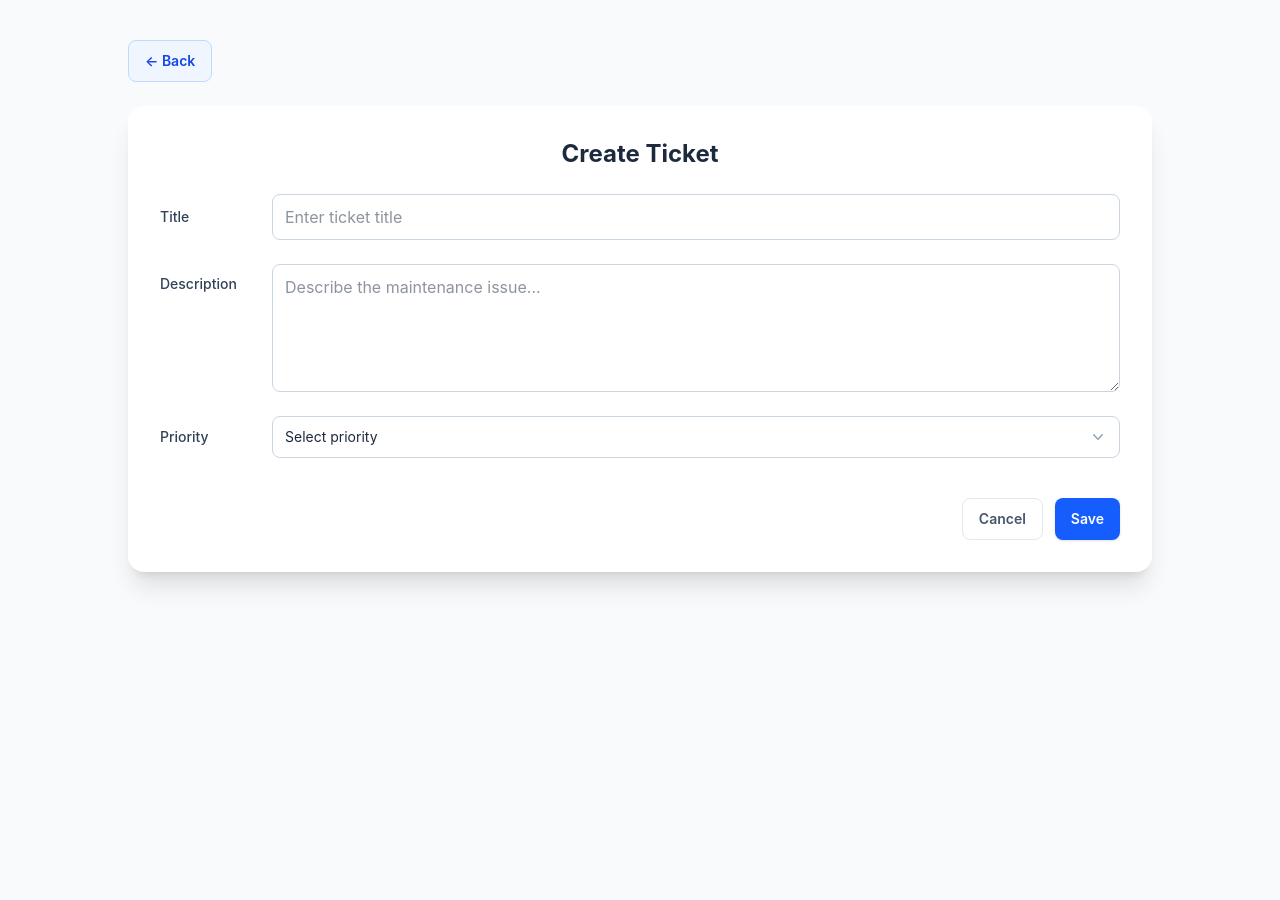
it: CreateTicket page › cancels the confirmation without submitting or clearing entered values
The image size is (1280, 900).
In the field labelled "Title": (696, 217) [272,194,1120,240], type "Repair leaking pipe"
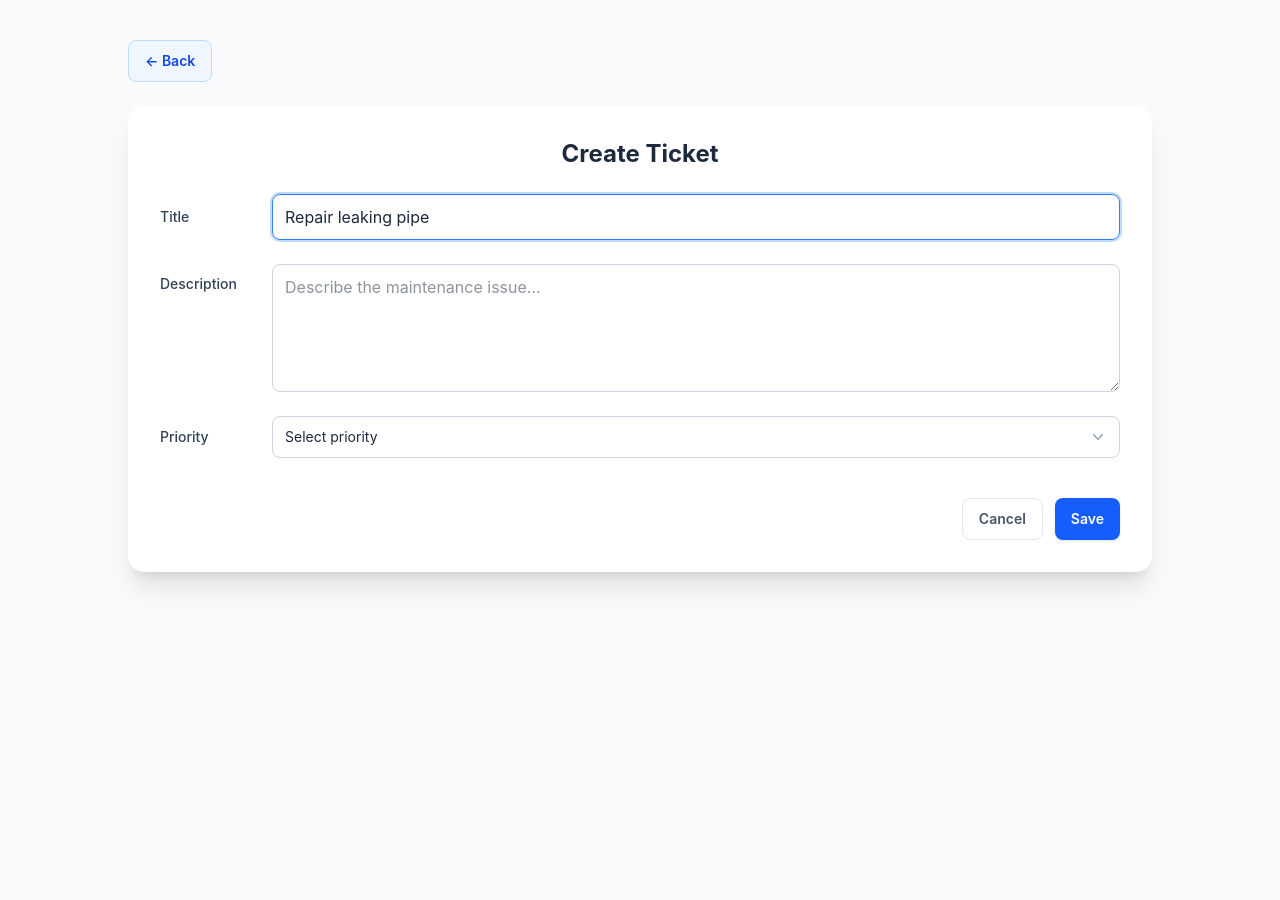
In the text box labelled "Description": (696, 328) [272,264,1120,392], type "Pipe leak in kitchen"
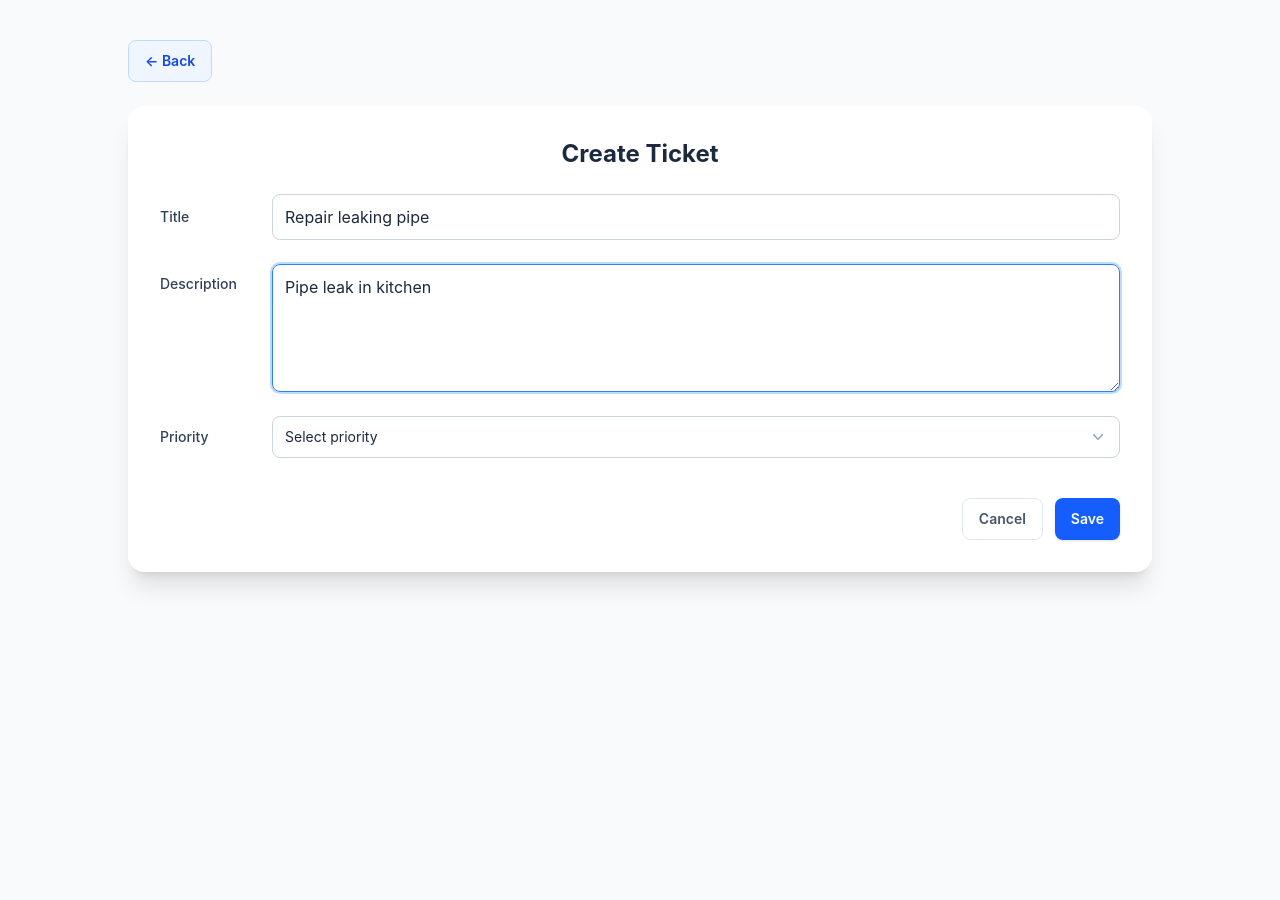
Select "High" in the dropdown labelled "Priority": (696, 437) [272,416,1120,458]
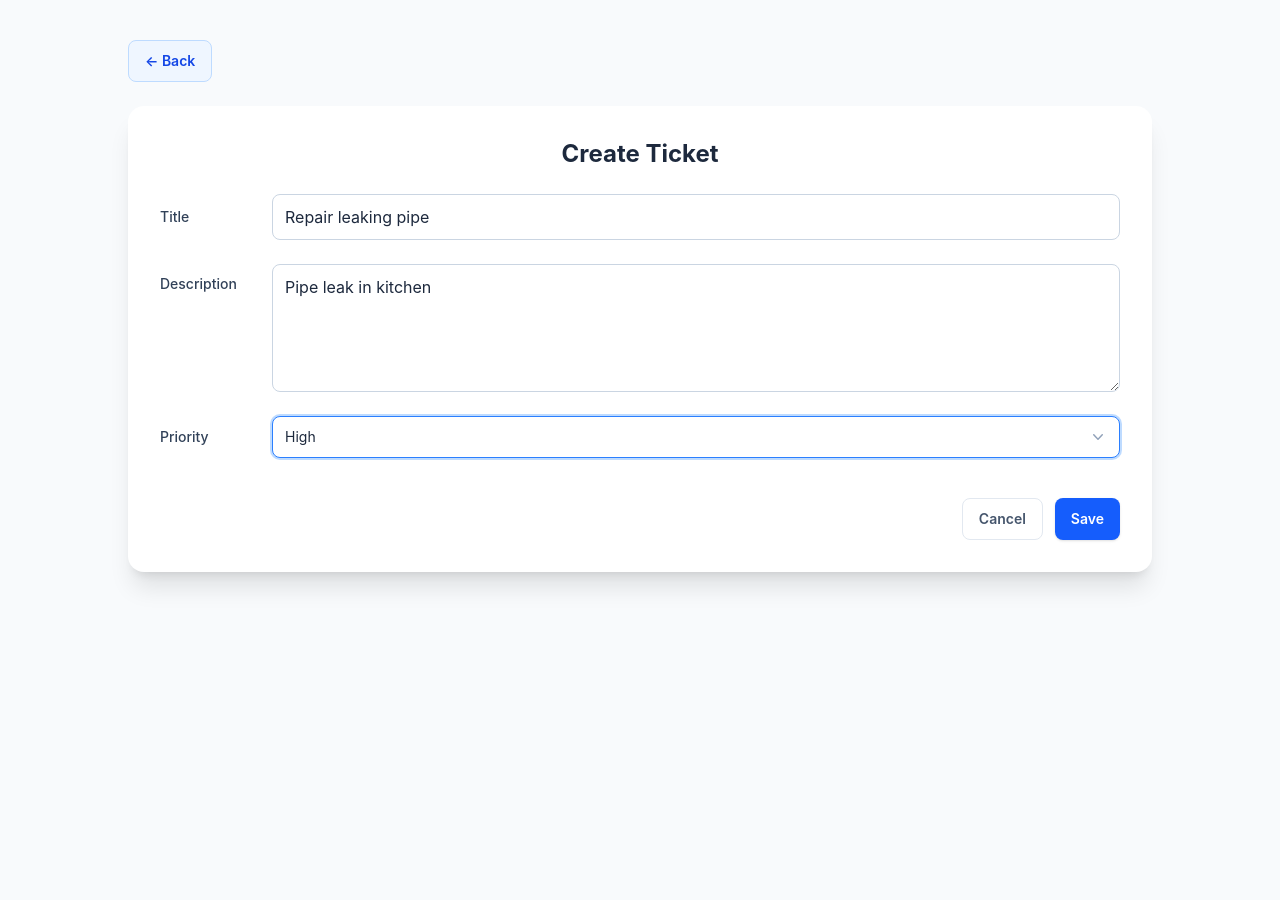
Click the button "Save": (1087, 519) [1055,498,1120,540]
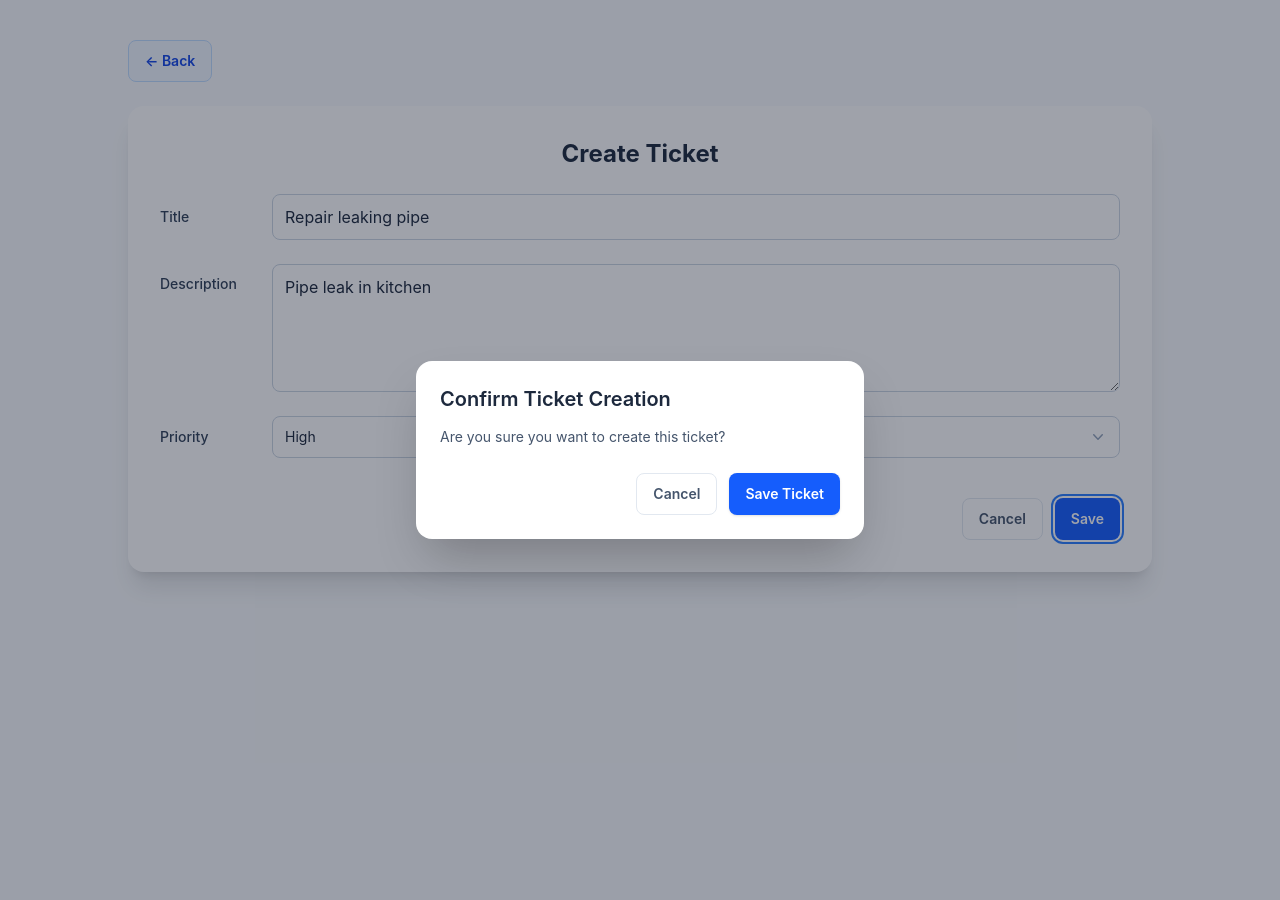
Click the button "Cancel": (677, 494) [636,473,717,515]
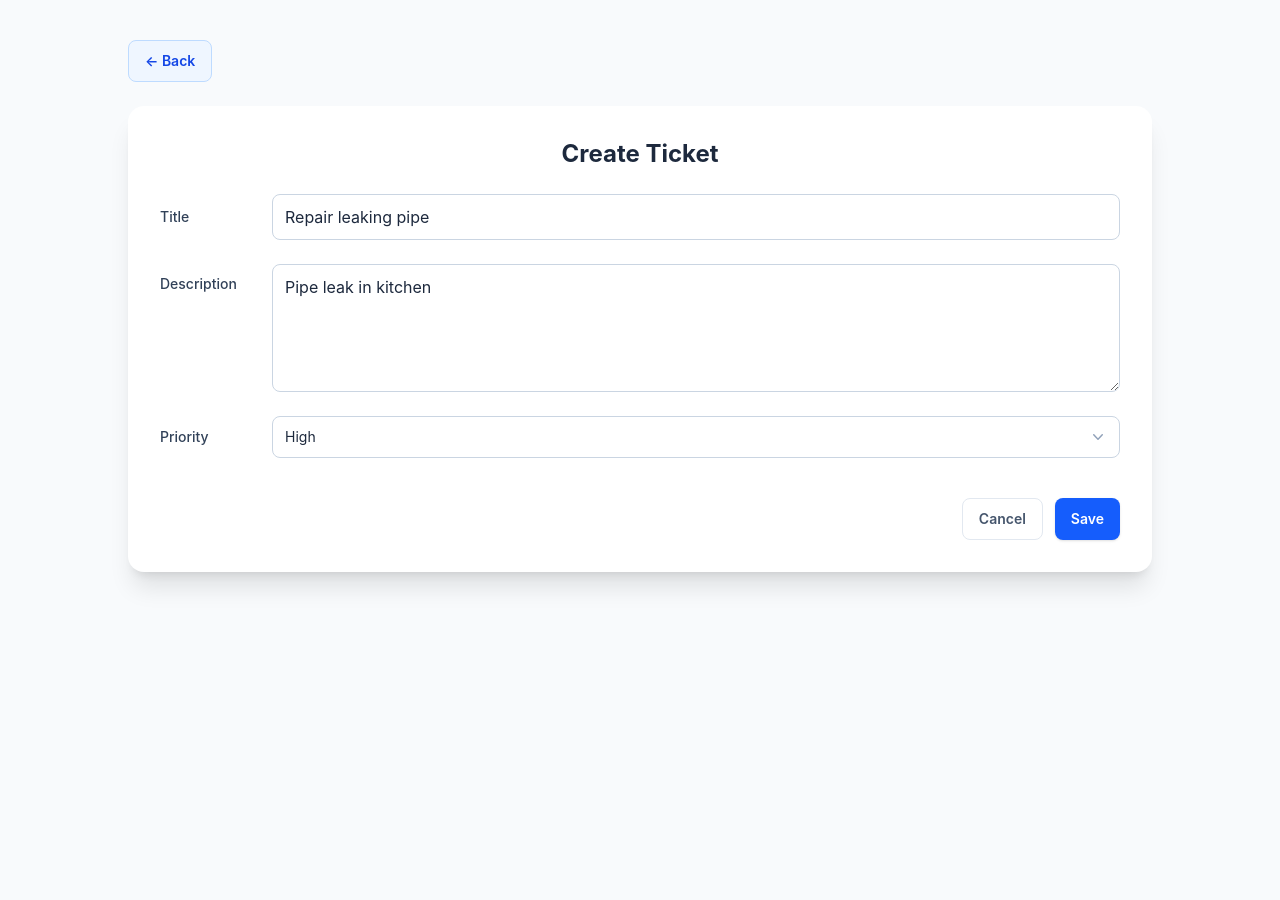
Now the heading "Confirm Ticket Creation" is gone
